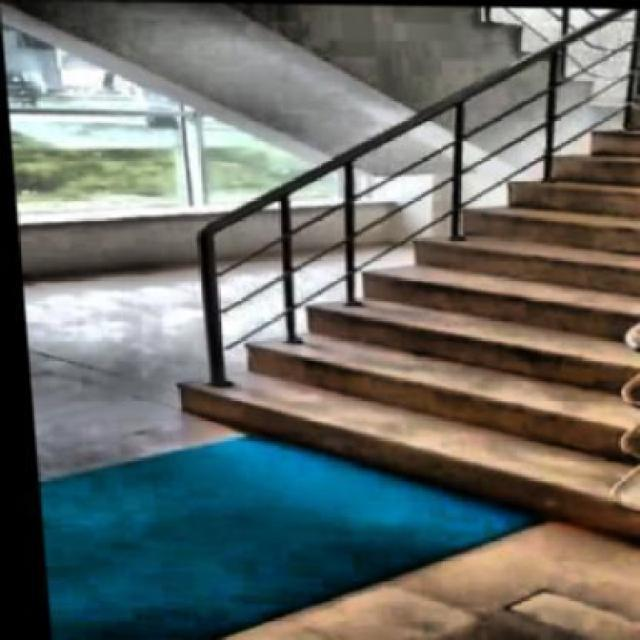stair: (99, 62, 638, 550)
